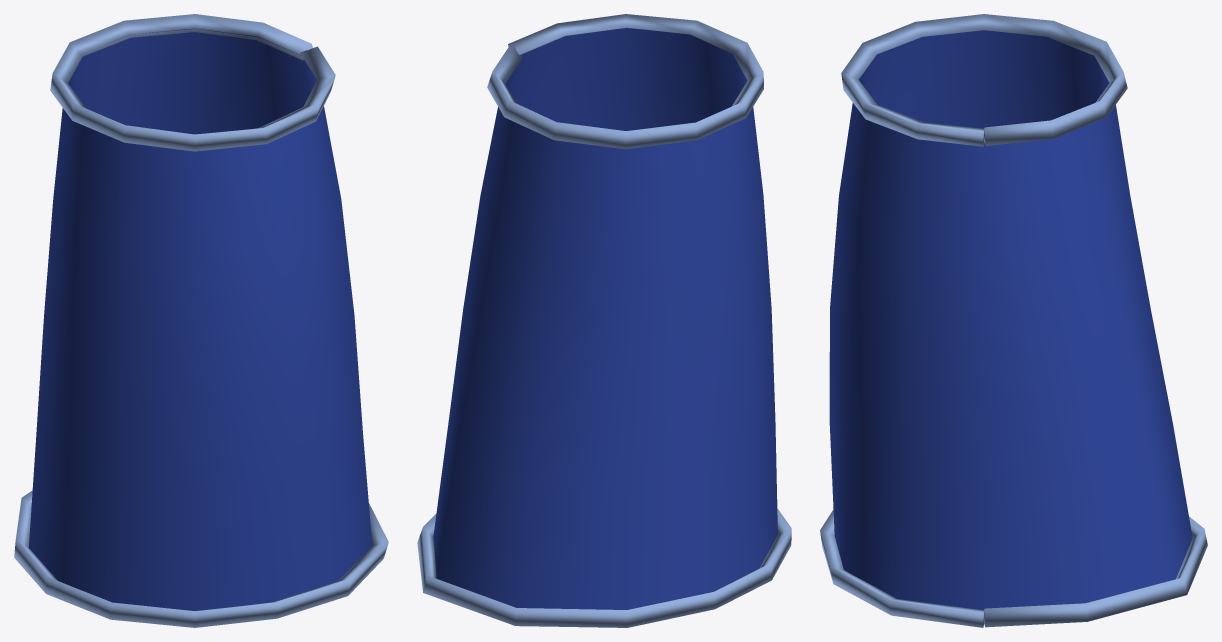
Rendered from stardust_armor_cuisse.L.glb.
3 renders of one model, left to right at view 1: azimuth 30°, elevation 25°; view 2: azimuth 150°, elevation 25°; view 3: azimuth 270°, elevation 25°, orthographic. The views are drawn at different scales.
Visible parts, largest first — view 1: stardust_armor_cuisse.L; view 2: stardust_armor_cuisse.L; view 3: stardust_armor_cuisse.L.
Boxes of the visible parts, bbox=[...] form: stardust_armor_cuisse.L: bbox=[14, 14, 388, 627]; stardust_armor_cuisse.L: bbox=[417, 14, 791, 627]; stardust_armor_cuisse.L: bbox=[820, 14, 1207, 627].
Bounding box in the file's own units: 0.2667 × 0.3856 × 0.2845.
